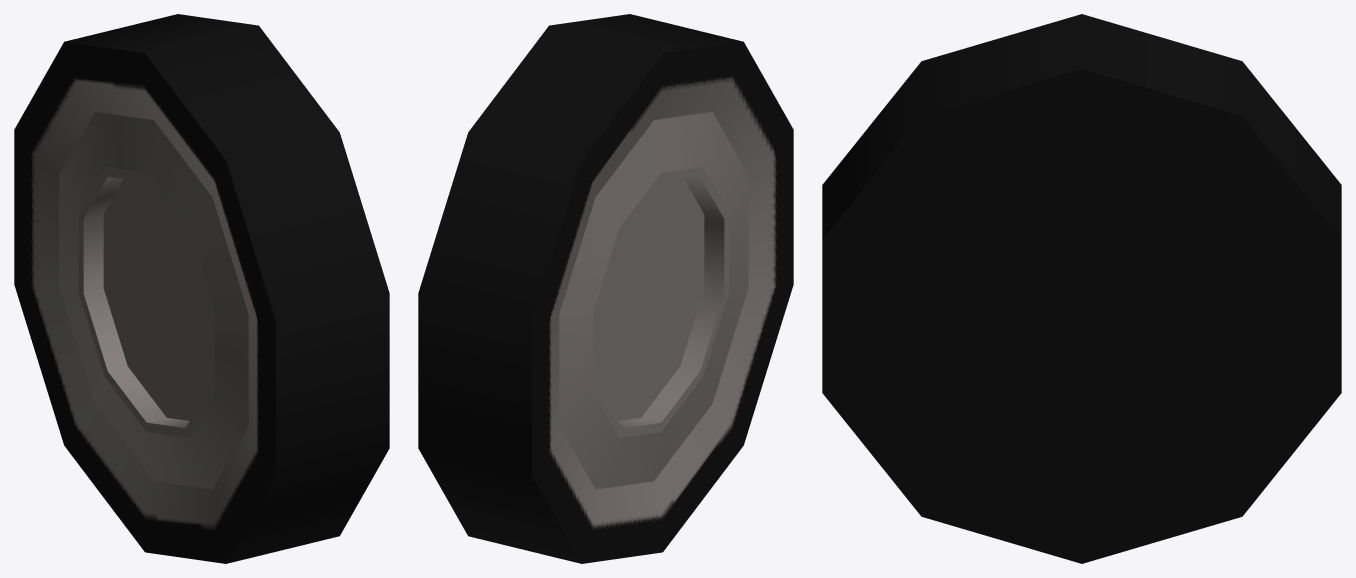
The model's file is cardboard_car4_tire_front_right.fbx.
3 views of the same model, side by side, from view 1: azimuth 30°, elevation 25°; view 2: azimuth 150°, elevation 25°; view 3: azimuth 270°, elevation 25° (orthographic).
Visible parts, largest first — view 1: cardboard_car4_tire4; view 2: cardboard_car4_tire4; view 3: cardboard_car4_tire4.
Part boxes in pixels (bbox=[...]): cardboard_car4_tire4: bbox=[14, 14, 389, 563]; cardboard_car4_tire4: bbox=[418, 14, 793, 563]; cardboard_car4_tire4: bbox=[822, 14, 1341, 563].
Bounding box in the file's own units: 11.02 × 46.18 × 43.92.
